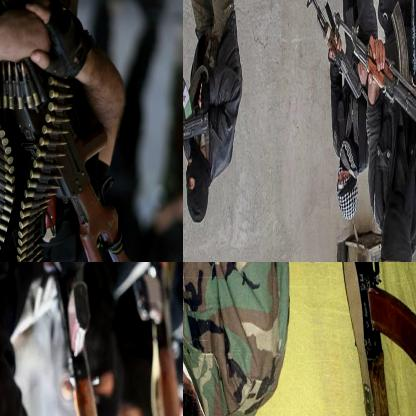rifle: (0, 13, 152, 261), (39, 262, 117, 415), (337, 262, 415, 415), (334, 0, 415, 134), (133, 262, 182, 415), (303, 0, 369, 113), (183, 72, 214, 160)
